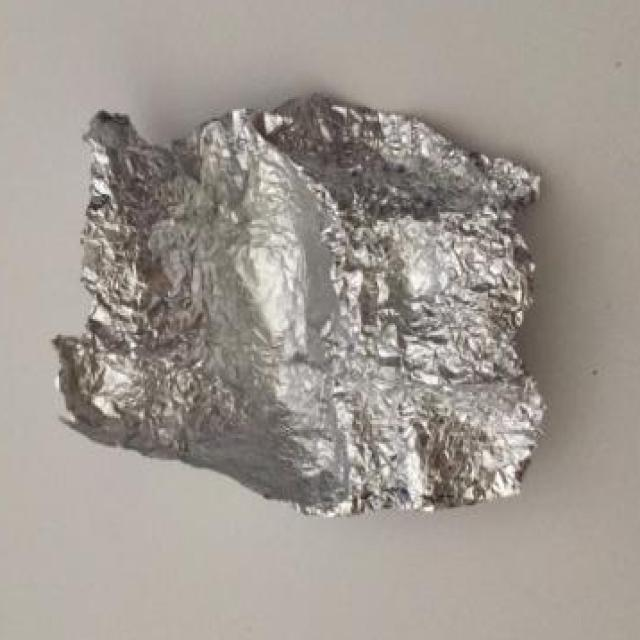organic: (29, 81, 566, 538)
